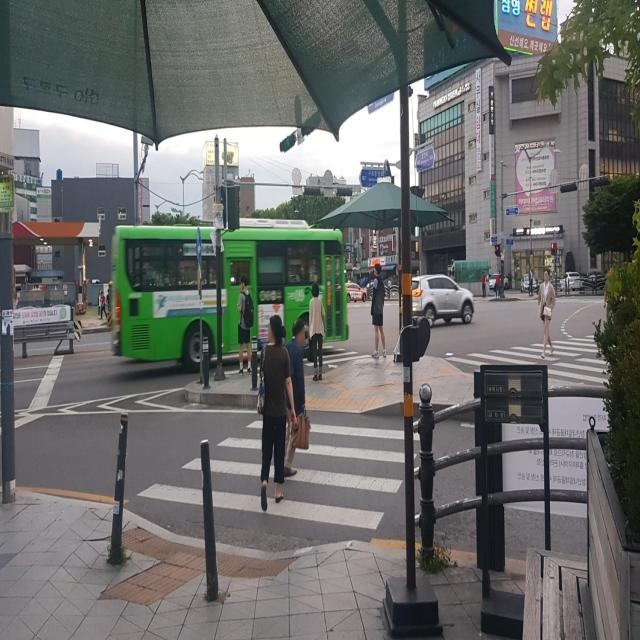횡단보도: (135, 417, 422, 532), (440, 323, 623, 392)
